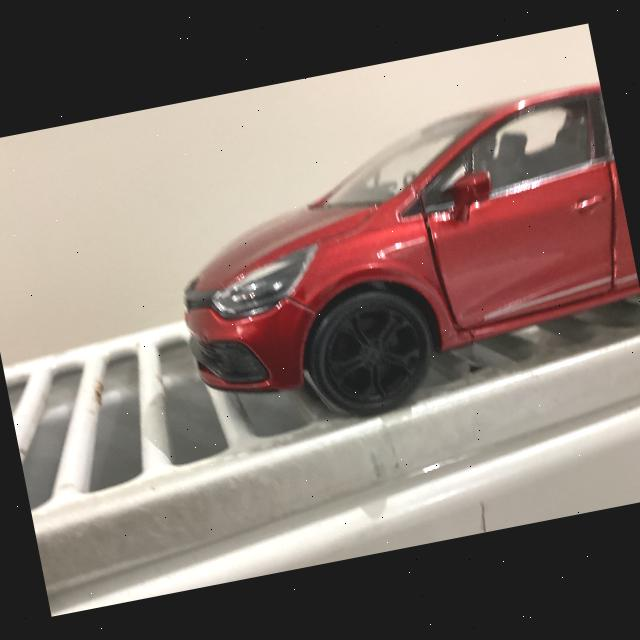Dogru_Jant: (315, 298, 430, 411)
